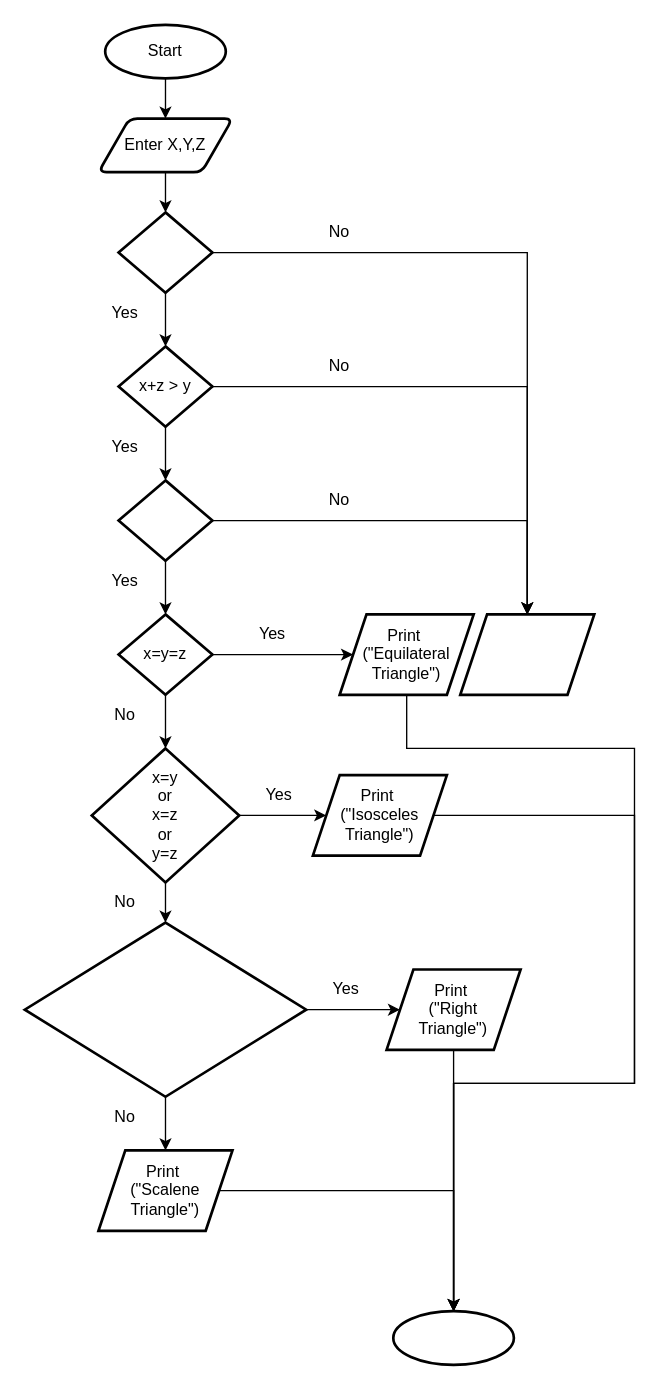
Some shapes in this 669 by 1388 pixel diagram are drawn without their labels. The centre of each missing label's shape, as x and y in pixels:
Print ("No"): the point at 526,653
Stop: the point at 453,1337
x+y > z: the point at 165,251
y+z > x: the point at 165,519
z=sqrt((y^2)+(x^2)) or x=sqrt((z^2)+(y^2)) or y=sqrt((x^2)+(z^2)): the point at 165,1009
